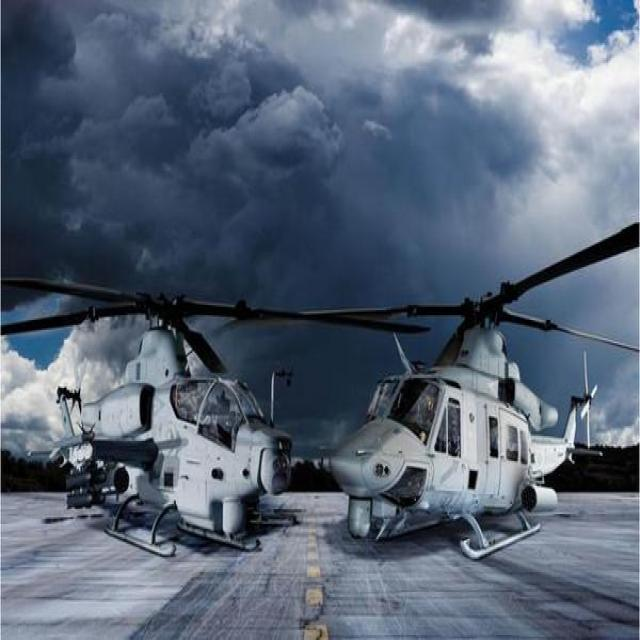MIL_HELO: (229, 217, 640, 568), (0, 268, 431, 566)
